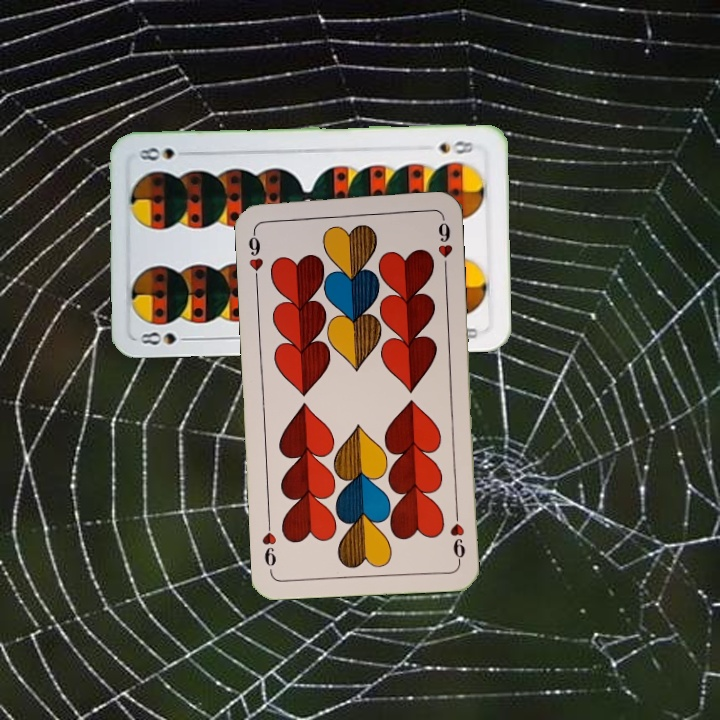H9: (446, 506, 468, 565), (244, 225, 266, 284)
S8: (136, 328, 195, 349), (435, 137, 476, 157)
